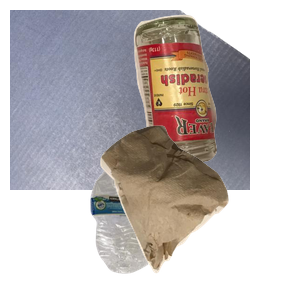cardboard: (10, 10, 250, 190)
glass: (131, 12, 300, 170)
plastic: (88, 158, 229, 300)
trash: (98, 123, 300, 300)
